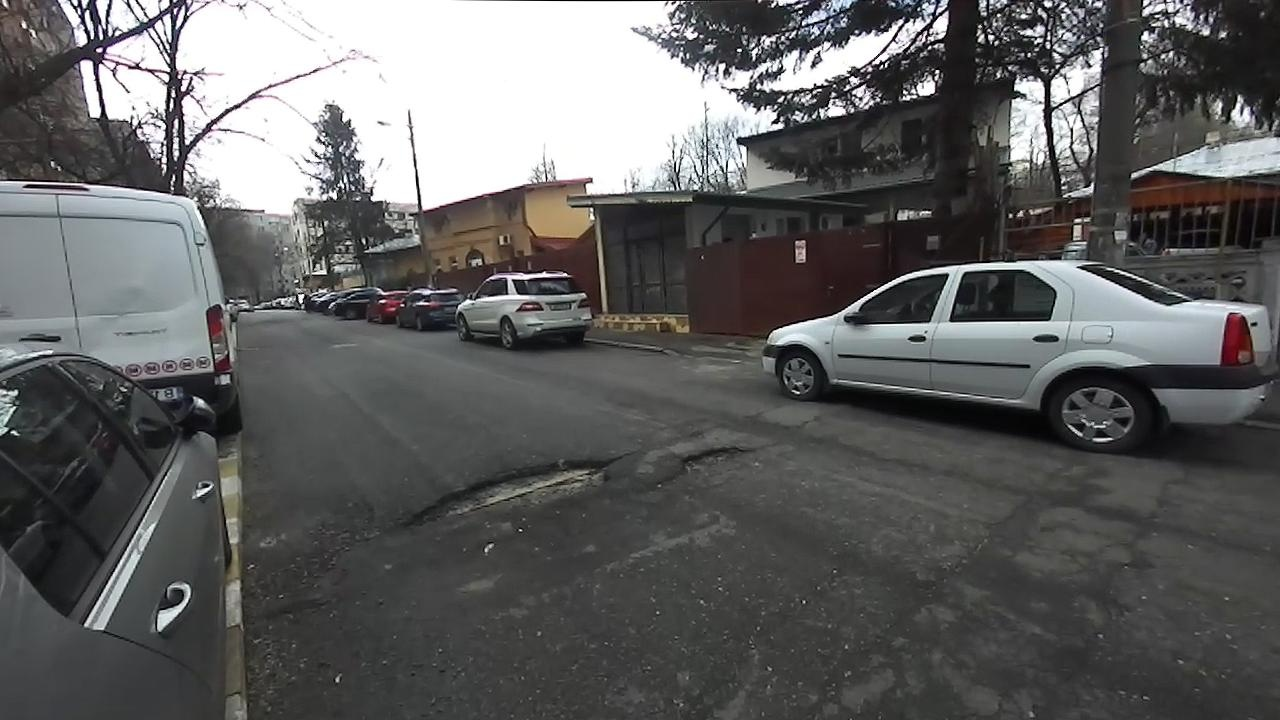pothole: (389, 447, 637, 539), (649, 439, 754, 489)
